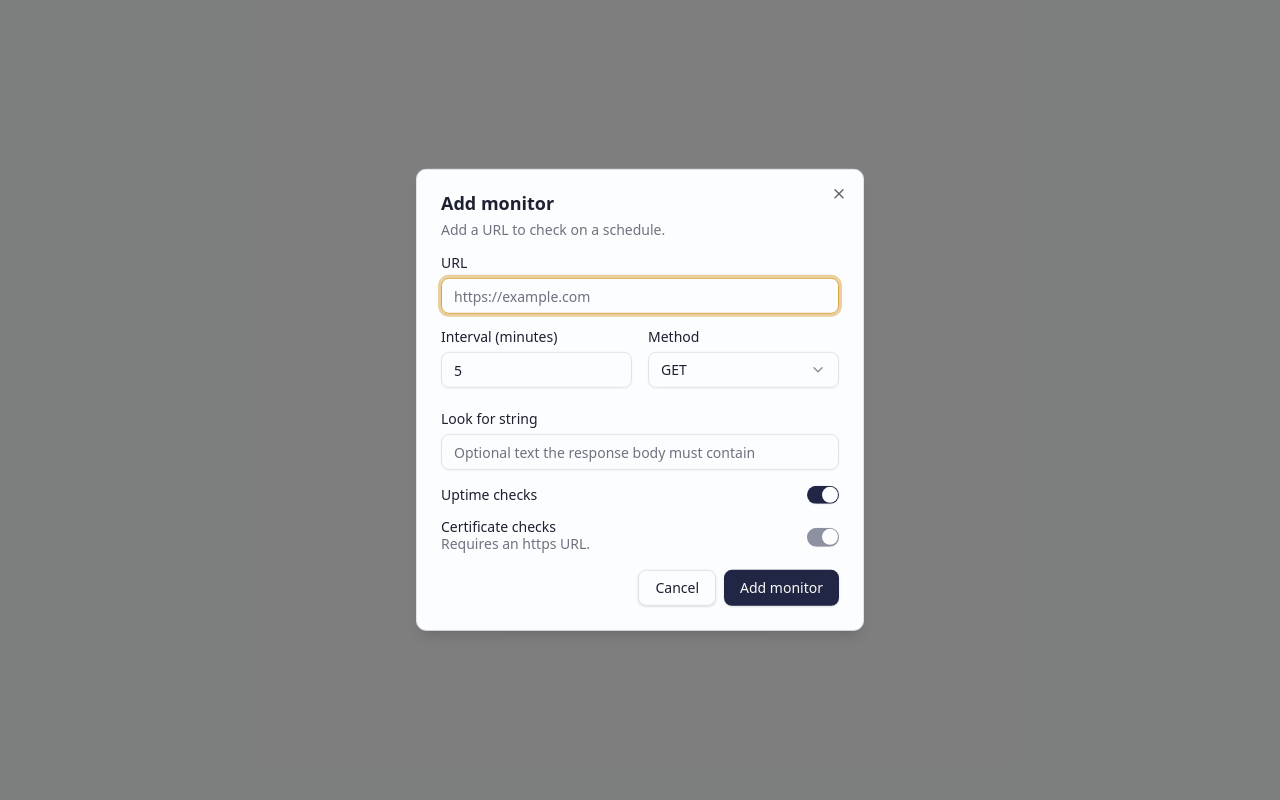
Test: MonitorFormDialog › shows inline validation errors instead of submitting
In the field labelled "URL": (640, 296) left=441, top=278, right=839, bottom=314, type "ftp://example.com"
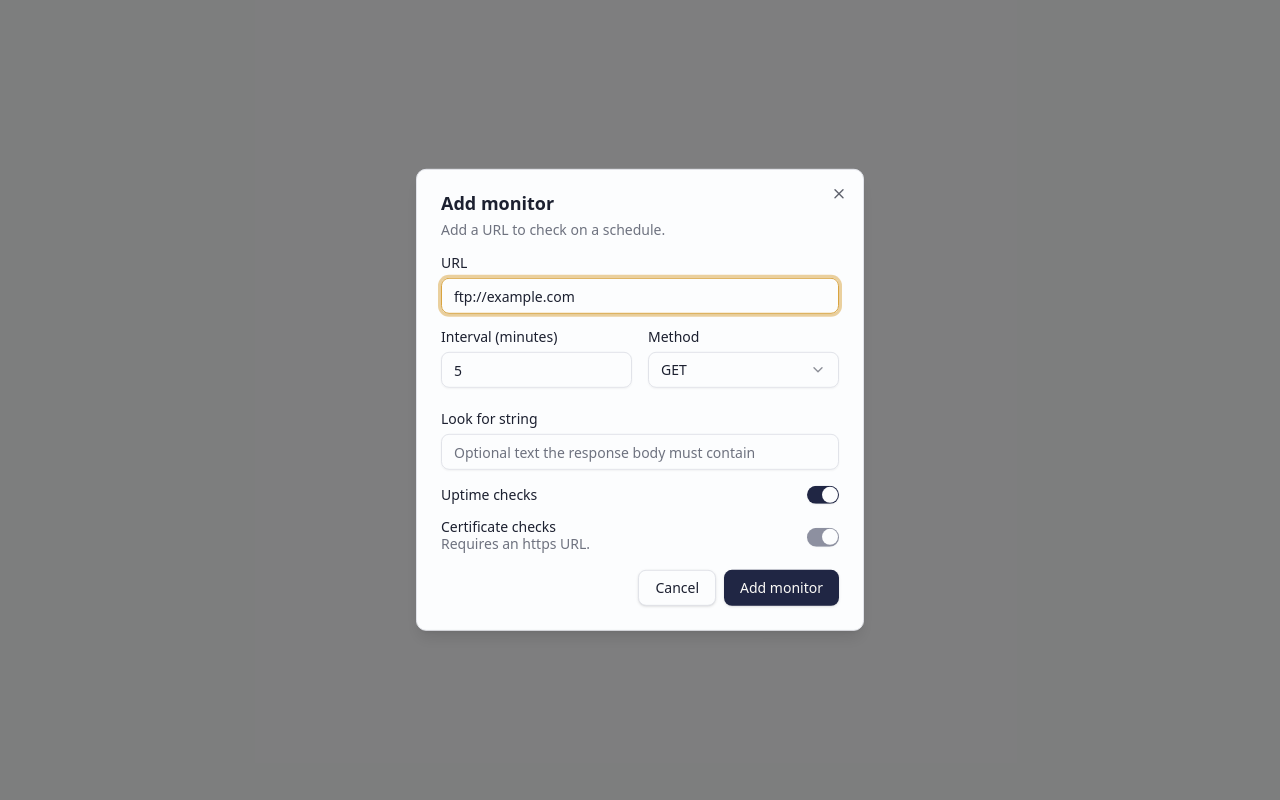
Replace the text in the number field labelled "Interval (minutes)" with "0": (536, 370) left=441, top=352, right=632, bottom=388
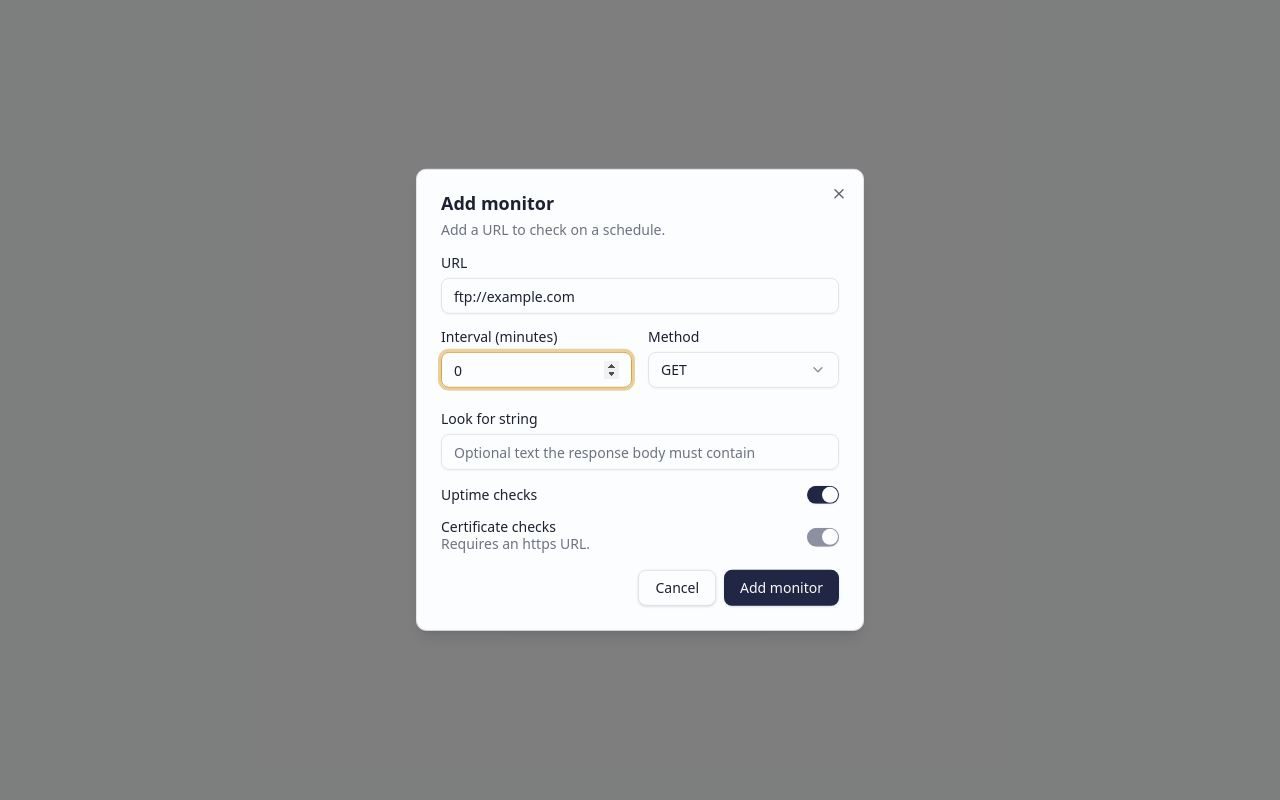
Click the button "Add monitor": (782, 588) left=724, top=570, right=839, bottom=606
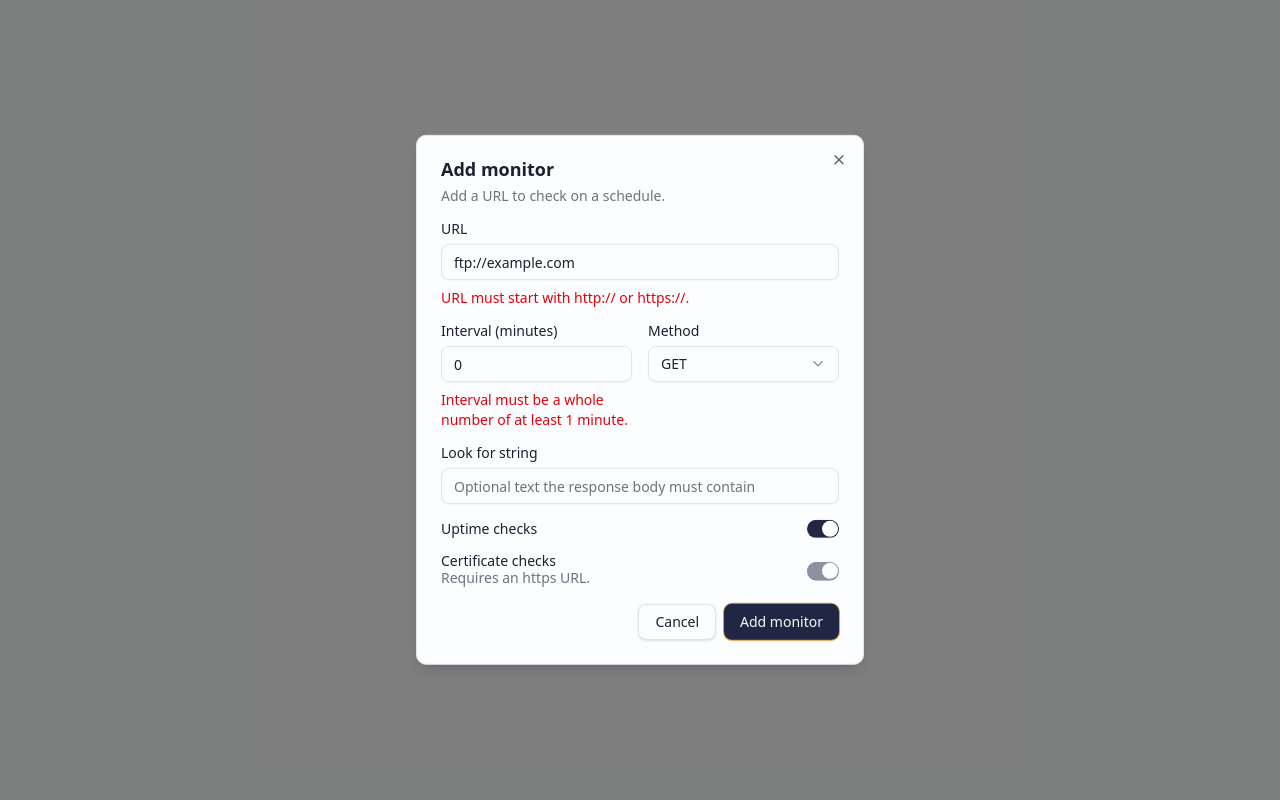
Result: the text "URL must start with http:// or https://." is shown at left=441, top=288, right=689, bottom=307
Result: the text "Interval must be a whole number of at least 1 minute." is shown at left=441, top=390, right=632, bottom=430
